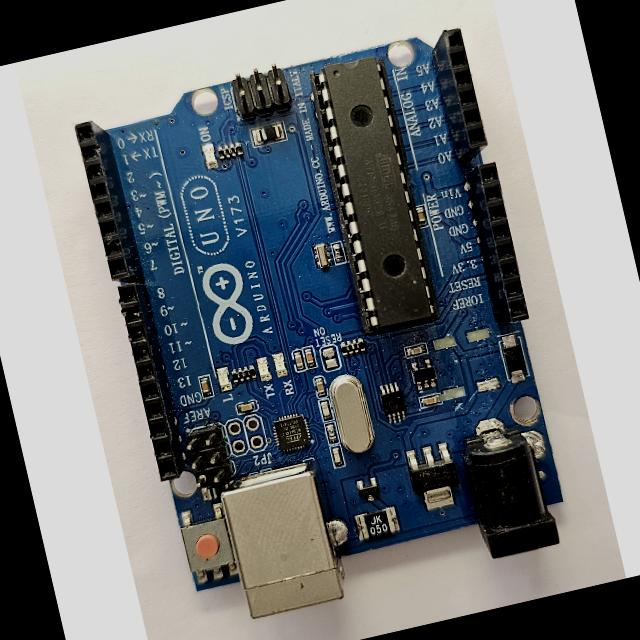missing_capacitors: (427, 316, 509, 412)
